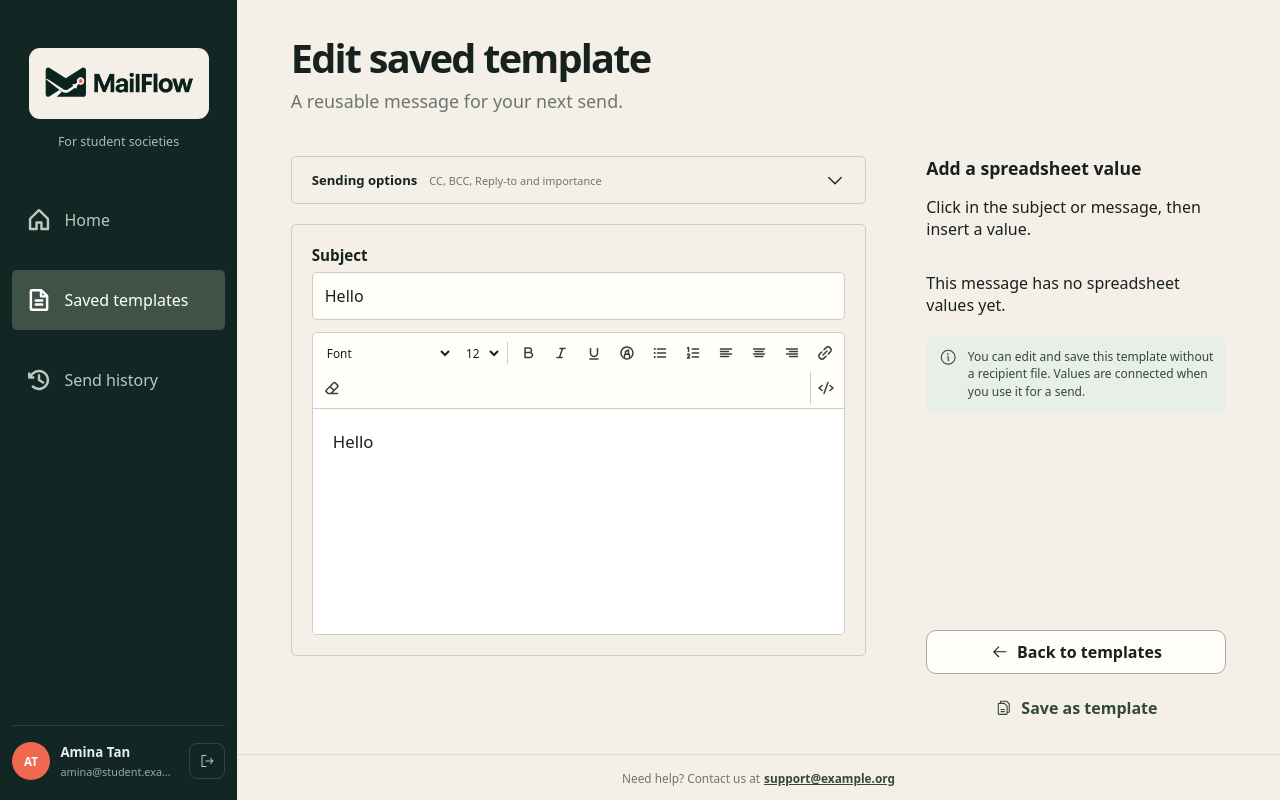
Test: authenticated information architecture › shows a duplicate-name conflict beside the flow name field
Click the button "Save as template" at (1076, 708), box [926,686,1226,730]
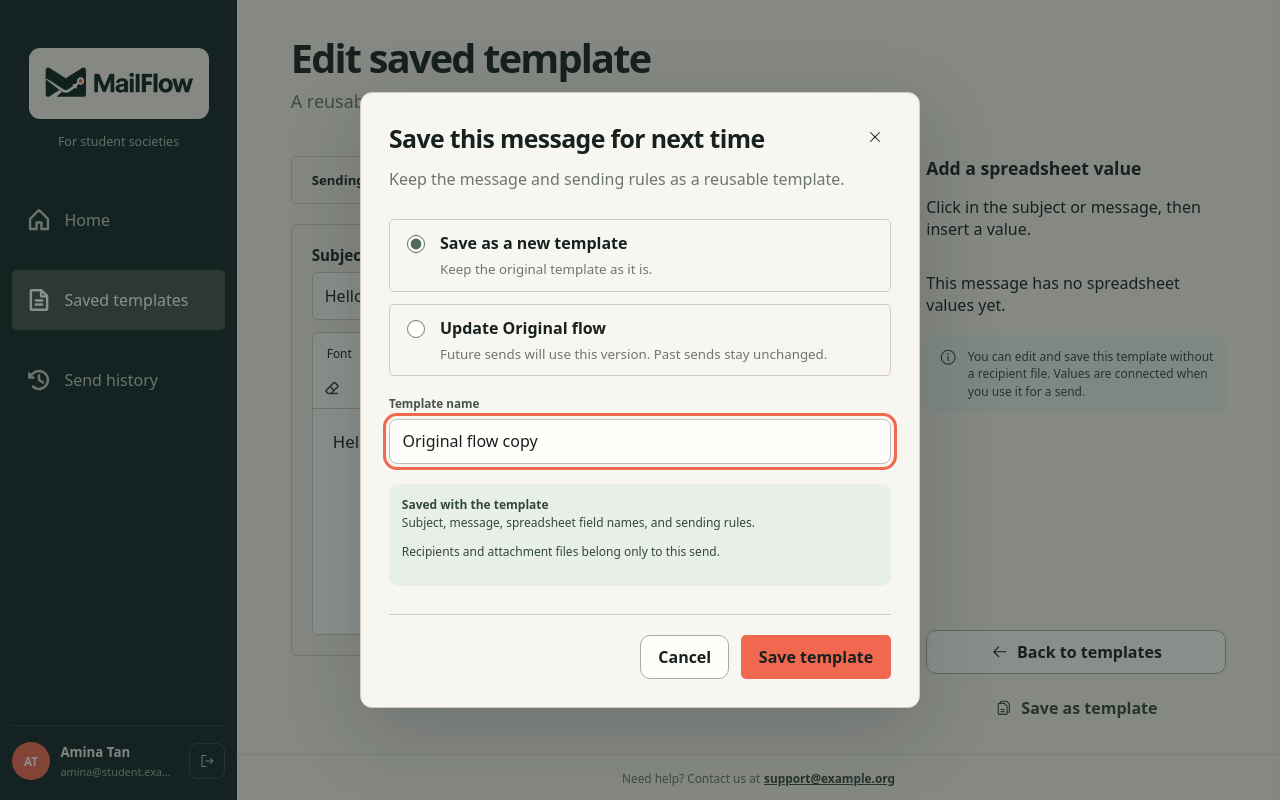
Click the radio button labelled "Update Original flow" at (416, 329), box [407,320,425,338]
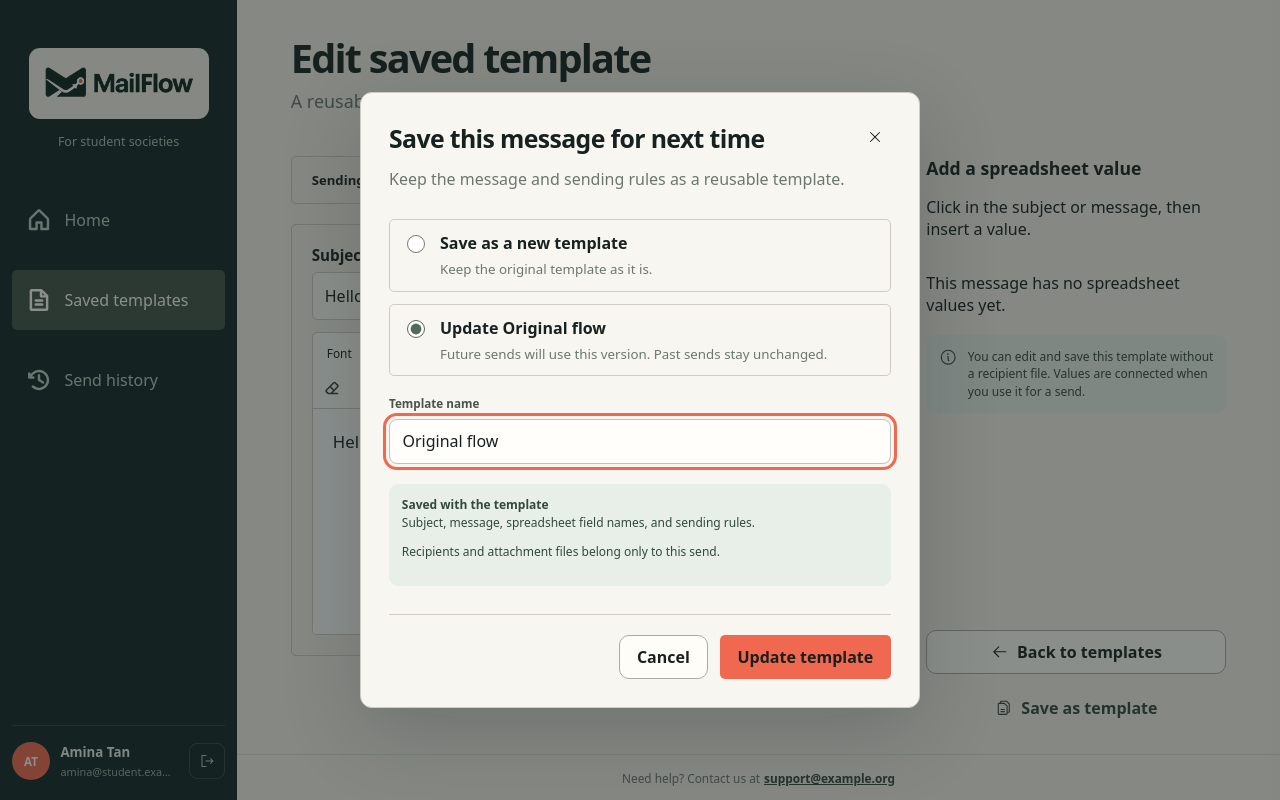
Replace the text in the field labelled "Template name" with "Existing flow" at (640, 442), box [389,419,891,464]
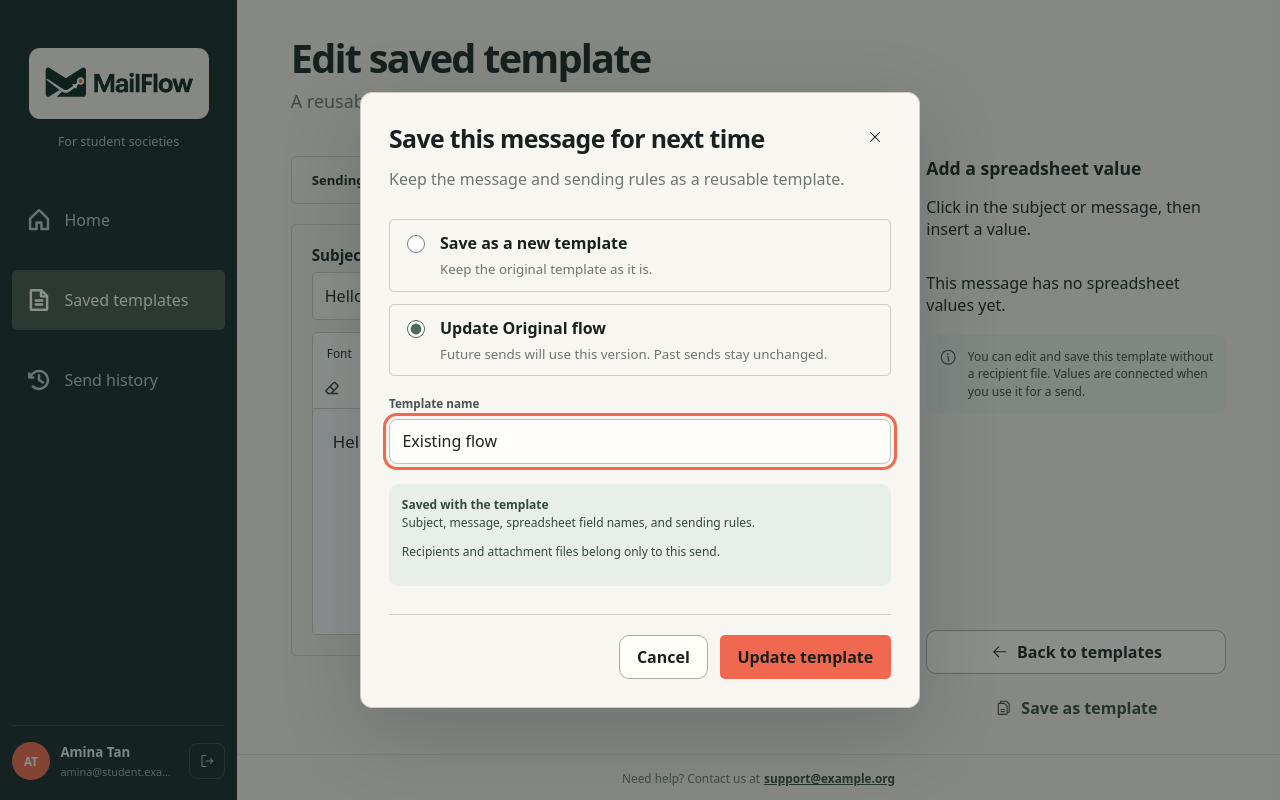
Click the button "Update template" at (805, 657), box [720,635,891,679]
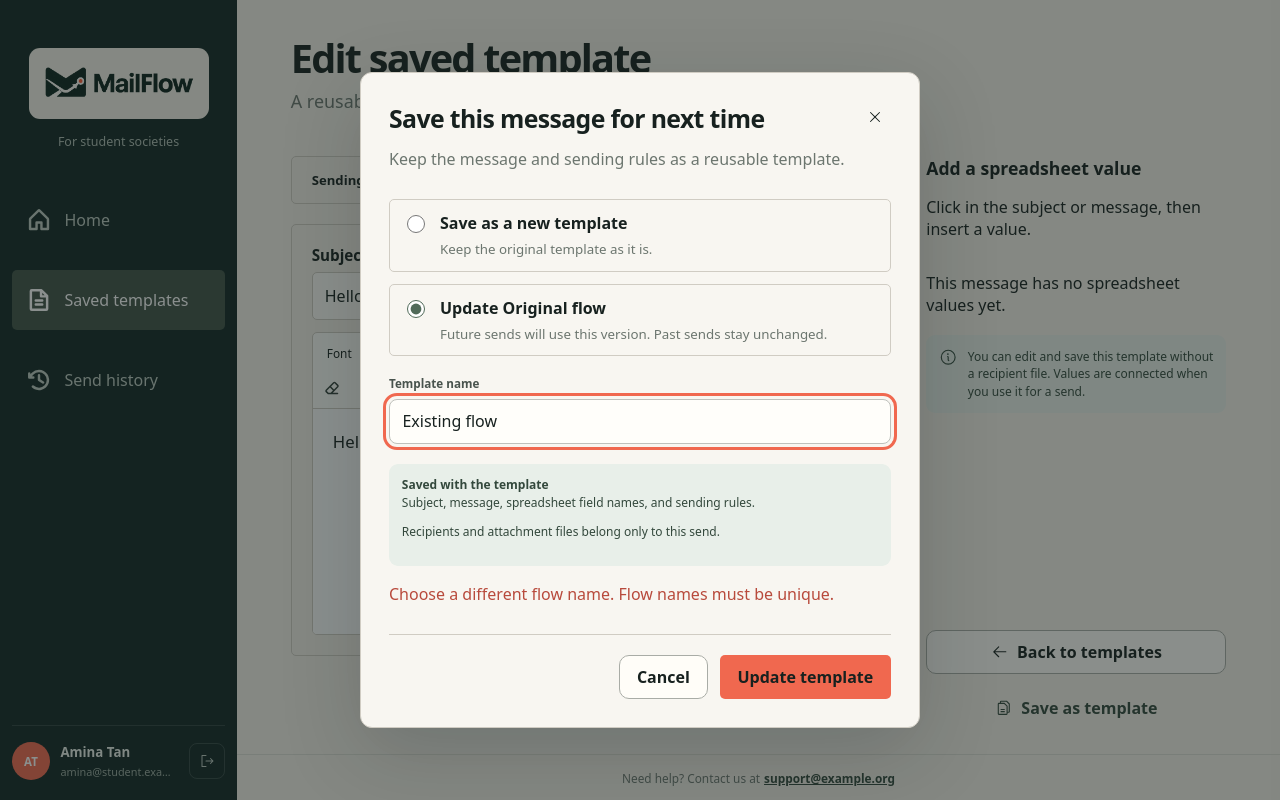
Check: the text "Choose a different flow name. Flow names must be unique." is shown, box [389,582,891,606]
